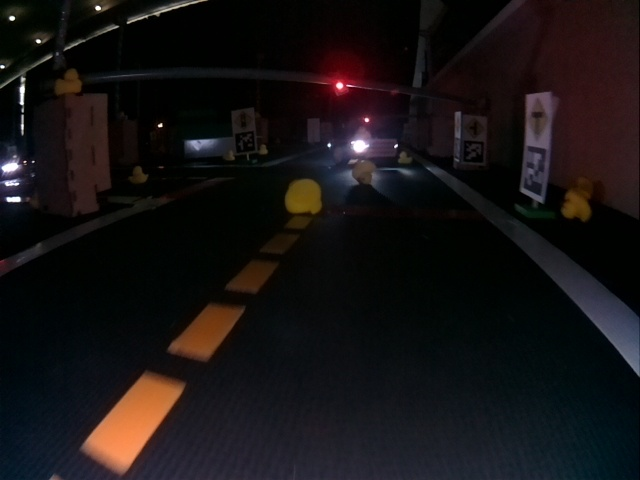Duckie: (285, 179, 319, 213), (562, 193, 590, 218), (54, 71, 76, 95), (353, 161, 375, 184), (131, 167, 147, 180)
Intersection sign: (527, 96, 548, 139), (463, 116, 482, 139)
QR code: (522, 148, 546, 197), (463, 141, 483, 162), (236, 135, 255, 152)
Traffic light: (333, 77, 347, 94)
